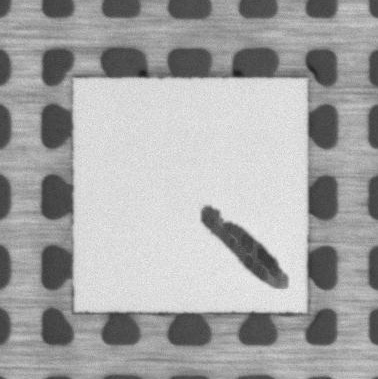DIE_INK: (198, 206, 289, 291)
